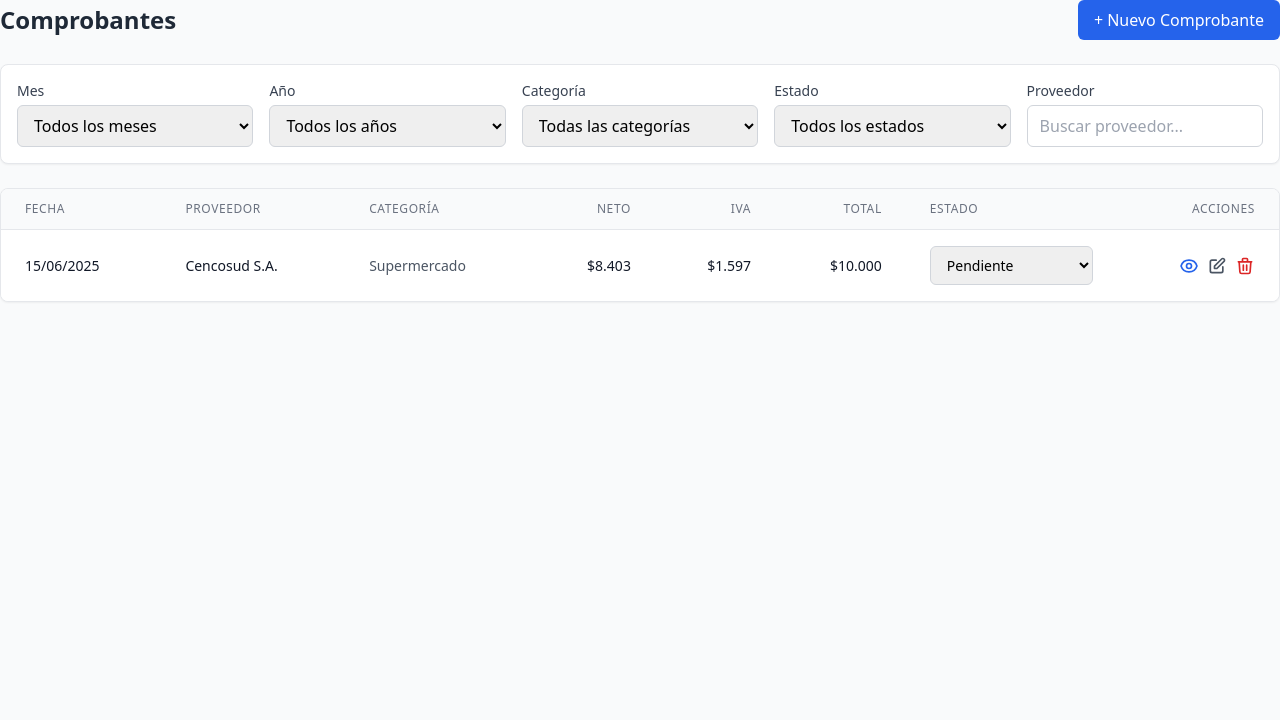
InvoicesPage › closes modal when cancel is clicked
The image size is (1280, 720).
Open delete modal
Click the button titled "Eliminar". click: (1245, 266)
box: [1235,256,1255,276]
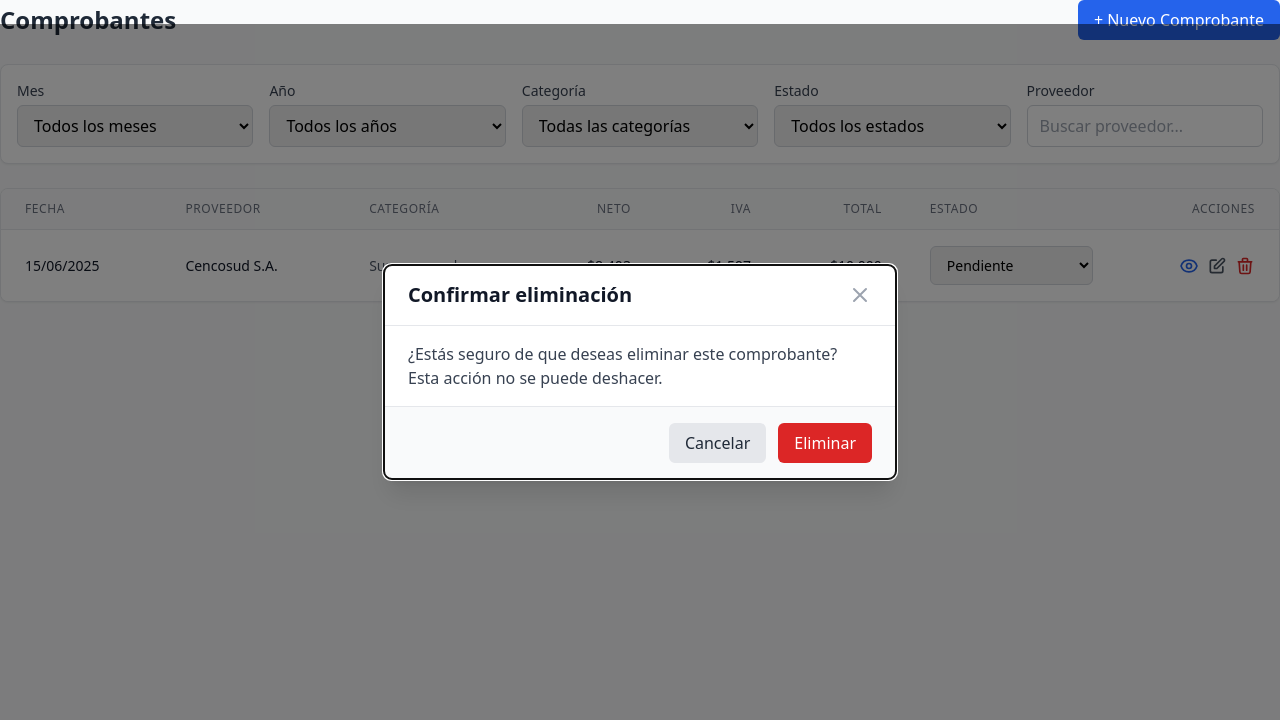
Cancel deletion
Click the button "Cancelar". click: (718, 443)
box: [669,423,766,463]
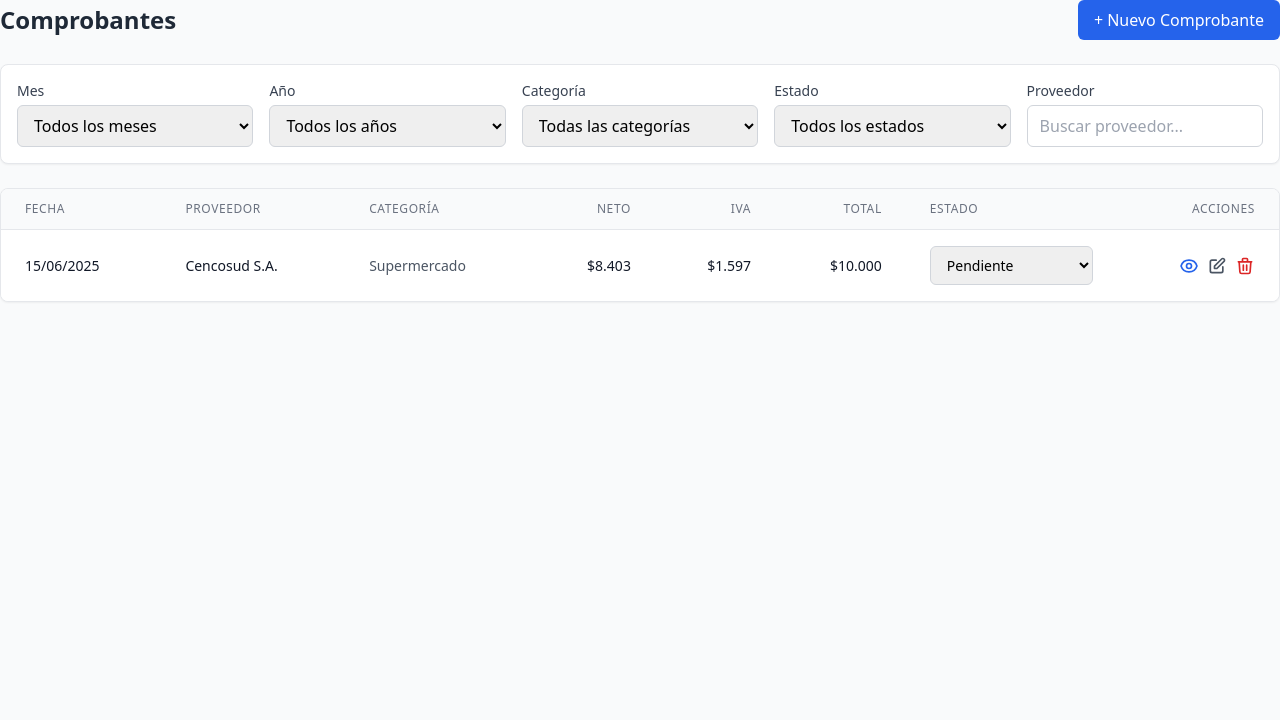
expect the heading "Confirmar eliminación" is gone: met
